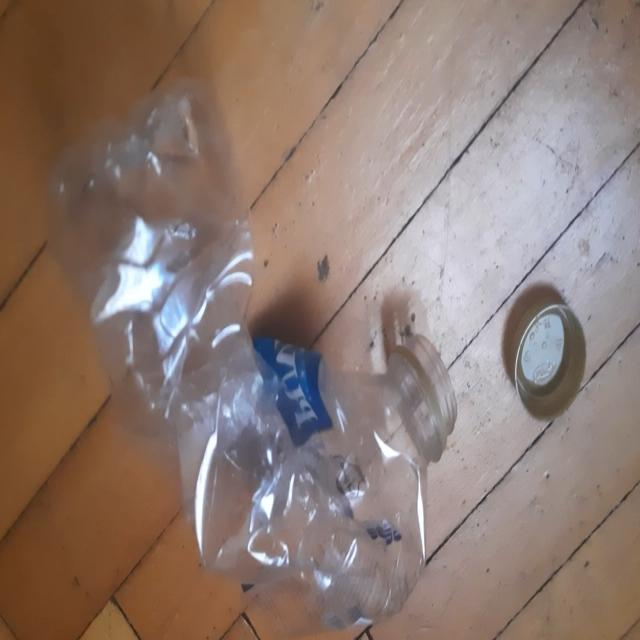Plastic: (46, 78, 456, 632)
